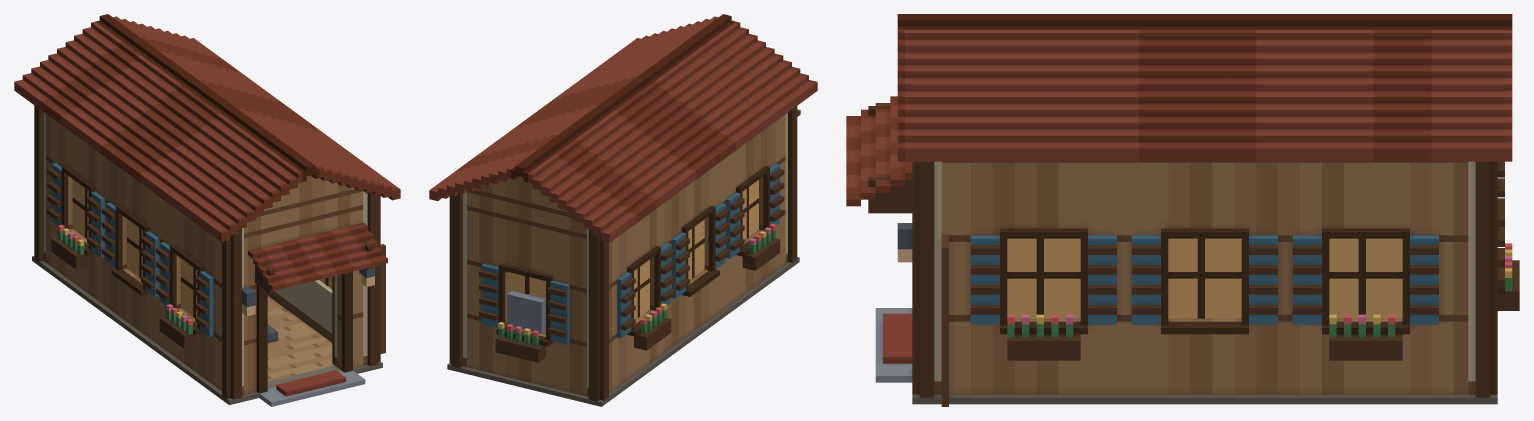
File: training_e1_l3.glb
3 renders of one model, left to right at view 1: azimuth 30°, elevation 25°; view 2: azimuth 150°, elevation 25°; view 3: azimuth 270°, elevation 25°, orthographic. The views are drawn at different scales.
Parts seen in each view (by area): view 1: CutRoof, Base, CutNX, CutPZ, CutNZ, CutPX; view 2: CutRoof, CutNX, CutNZ, Base, CutPZ; view 3: CutPX, CutRoof, Base, CutPZ, CutNZ.
Boxes of the visible parts, box(x1,y1,x2,y2) form: CutRoof: box(14, 14, 400, 241); Base: box(32, 218, 385, 406); CutNX: box(46, 114, 221, 350); CutPZ: box(222, 191, 387, 359); CutNZ: box(34, 105, 45, 221); CutPX: box(306, 277, 332, 302); CutRoof: box(429, 14, 817, 242); CutNX: box(609, 114, 785, 352); CutNZ: box(449, 192, 608, 360); Base: box(447, 219, 799, 406); CutPZ: box(785, 106, 800, 222); CutPX: box(941, 161, 1468, 347); CutRoof: box(897, 14, 1512, 161); Base: box(875, 297, 1519, 406); CutPZ: box(846, 96, 948, 347); CutNZ: box(1468, 161, 1519, 337).
Size of the model in its own units: 4.2 by 5 by 9.2.
